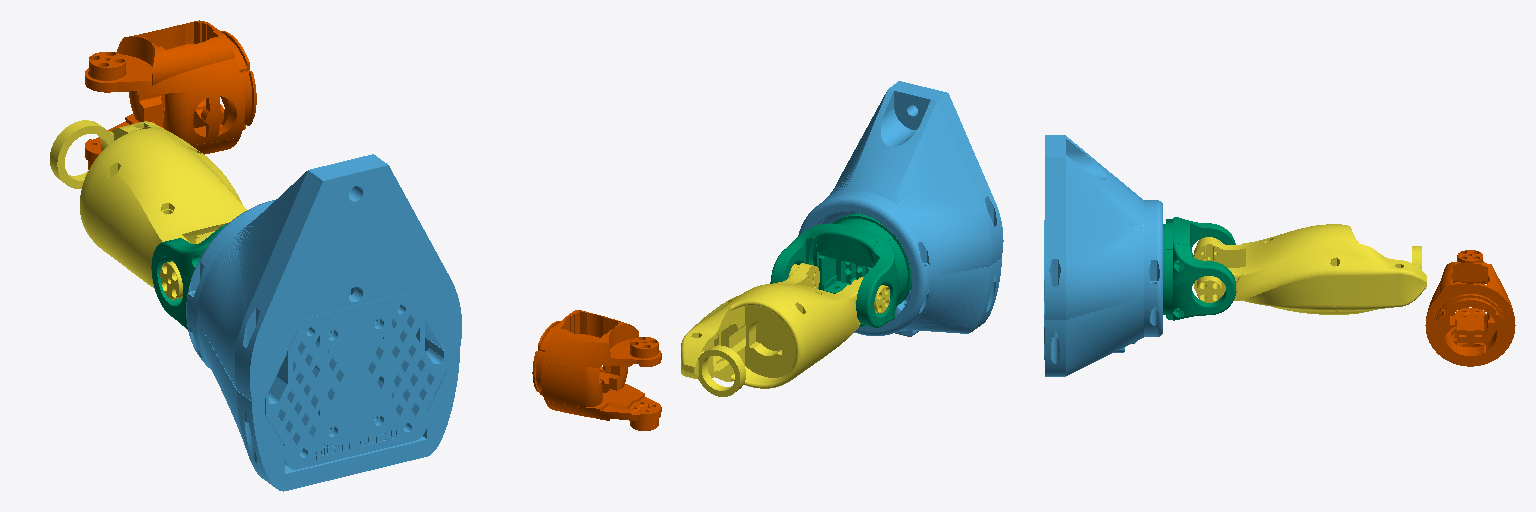
The robot description file, URDF, robot "hopejr_arm":
<?xml version="1.0" ?>
<!-- =================================================================================== -->
<!-- |    This document was autogenerated by xacro from ./hopejr_arm.urdf.xacro        | -->
<!-- |    EDITING THIS FILE BY HAND IS NOT RECOMMENDED                                 | -->
<!-- =================================================================================== -->
<robot name="hopejr_arm">
  <link name="base_footprint"/>
  <link name="base_link">
    <visual>
      <origin rpy="0.0 0 0" xyz="0 0 0"/>
      <geometry>
        <mesh filename="package://hopejr_arm_description/meshes/visual/base_link.dae" scale="1 1 1"/>
      </geometry>
    </visual>
    <collision>
      <origin rpy="0 0 0" xyz="0 0 0"/>
      <geometry>
        <mesh filename="package://hopejr_arm_description/meshes/collision/base_link.stl" scale="1 1 1"/>
      </geometry>
    </collision>
    <inertial>
      <origin rpy="0 0 0" xyz="-0.02 0 0.028"/>
      <mass value="1.260139"/>
      <inertia ixx="0.003444" ixy="0.000000060725" ixz="0.000000223974" iyy="0.003173" iyz="0.0003306" izz="0.002316"/>
    </inertial>
  </link>
  <joint name="base_link_fixed" type="fixed">
    <parent link="base_footprint"/>
    <child link="base_link"/>
    <origin rpy="0 0 0" xyz="0 0 0"/>
  </joint>
  <link name="shoulder_yaw">
    <visual>
      <origin rpy="0 0 0" xyz="0 0 0"/>
      <geometry>
        <mesh filename="package://hopejr_arm_description/meshes/visual/shoulder_yaw.dae" scale="1 1 1"/>
      </geometry>
    </visual>
    <collision>
      <origin rpy="0 0 0" xyz="0 0 0"/>
      <geometry>
        <mesh filename="package://hopejr_arm_description/meshes/collision/shoulder_yaw.stl" scale="1 1 1"/>
      </geometry>
    </collision>
    <inertial>
      <origin rpy="0 0 0" xyz="0 0 0"/>
      <mass value="0.252213"/>
      <inertia ixx="0.0001227" ixy="0.000000629536" ixz="-0.000000333468" iyy="0.0001678" iyz="-0.000000674054" izz="0.0001553"/>
    </inertial>
  </link>
  <joint name="shoulder_pitch" type="continuous">
    <parent link="base_link"/>
    <child link="shoulder_yaw"/>
    <origin rpy="0 0 0" xyz="0 0.07106 0.04453"/>
    <axis xyz="0 1 0"/>
    <limit effort="10" velocity="1.0"/>
  </joint>
  <link name="shoulder_roll">
    <visual>
      <origin rpy="0 0 0" xyz="0 0 0"/>
      <geometry>
        <mesh filename="package://hopejr_arm_description/meshes/visual/shoulder_roll.dae" scale="1 1 1"/>
      </geometry>
    </visual>
    <collision>
      <origin rpy="0 0 0" xyz="0 0 0"/>
      <geometry>
        <mesh filename="package://hopejr_arm_description/meshes/collision/shoulder_roll.stl" scale="1 1 1"/>
      </geometry>
    </collision>
    <inertial>
      <origin rpy="0 0 0" xyz="-0.02 0 0.028"/>
      <mass value="0.422614"/>
      <inertia ixx="0.0006959" ixy="0.000006134701" ixz="-0.000083430347" iyy="0.0007655" iyz="0.000025066263" izz="0.0002446"/>
    </inertial>
  </link>
  <joint name="shoulder_yaw" type="revolute">
    <parent link="shoulder_yaw"/>
    <parent link="shoulder_yaw"/>
    <child link="shoulder_roll"/>
    <origin rpy="-1.5707963267948966 0 0" xyz="0 0.05585 0"/>
    <axis xyz="1 0 0"/>
    <limit effort="10" lower="-1.71" upper="1.681" velocity="1.0"/>
  </joint>
  <link name="upper_elbow">
    <visual>
      <origin rpy="0 0 0" xyz="0 0 0"/>
      <geometry>
        <mesh filename="package://hopejr_arm_description/meshes/visual/upper_elbow.dae" scale="1 1 1"/>
      </geometry>
    </visual>
    <collision>
      <origin rpy="0 0 0" xyz="0 0 0"/>
      <geometry>
        <mesh filename="package://hopejr_arm_description/meshes/collision/upper_elbow.stl" scale="1 1 1"/>
      </geometry>
    </collision>
    <inertial>
      <origin rpy="0 0 0" xyz="-0.02 0 0.028"/>
      <mass value="0.243803"/>
      <inertia ixx="0.0003227" ixy="-0.000000062111" ixz="-0.0001214" iyy="0.0003959" iyz="-0.000000048168" izz="0.0001746"/>
    </inertial>
  </link>
  <joint name="shoulder_roll" type="revolute">
    <parent link="shoulder_roll"/>
    <parent link="shoulder_roll"/>
    <child link="upper_elbow"/>
    <origin rpy="0 0 0" xyz="0 0 0.0884"/>
    <axis xyz="0 0 1"/>
    <limit effort="10" lower="-1.172" upper="1.172" velocity="1.0"/>
  </joint>
  <link name="lower_elbow">
    <visual>
      <origin rpy="0 1.5707963267948966 0" xyz="0 0 0"/>
      <geometry>
        <mesh filename="package://hopejr_arm_description/meshes/visual/lower_elbow.dae" scale="1 1 1"/>
      </geometry>
    </visual>
    <collision>
      <origin rpy="0 1.5707963267948966 0" xyz="0 0 0"/>
      <geometry>
        <mesh filename="package://hopejr_arm_description/meshes/collision/lower_elbow.stl" scale="1 1 1"/>
      </geometry>
    </collision>
    <inertial>
      <origin rpy="0 0 0" xyz="-0.02 0 0.028"/>
      <mass value="0.1882"/>
      <inertia ixx="0.0001196" ixy="0.000002288885" ixz="0.000001137302" iyy="0.000096307138" iyz="0.000003223544" izz="0.0001047"/>
    </inertial>
  </link>
  <joint name="elbow_flex" type="revolute">
    <parent link="upper_elbow"/>
    <child link="lower_elbow"/>
    <origin rpy="0 0 0" xyz="0.03765 0 0.11311"/>
    <axis xyz="0 -1 0"/>
    <limit effort="10" lower="-0.96" upper="1.41" velocity="1.0"/>
  </joint>
  <link name="forearm">
    <visual>
      <origin rpy="0 1.5707963267948966 0" xyz="0 0 0"/>
      <geometry>
        <mesh filename="package://hopejr_arm_description/meshes/visual/forearm.dae" scale="1 1 1"/>
      </geometry>
    </visual>
    <collision>
      <origin rpy="0 1.5707963267948966 0" xyz="0 0 0"/>
      <geometry>
        <mesh filename="package://hopejr_arm_description/meshes/collision/forearm.stl" scale="1 1 1"/>
      </geometry>
    </collision>
    <inertial>
      <origin rpy="0 0 0" xyz="-0.02 0 0.028"/>
      <mass value="0.208355"/>
      <inertia ixx="0.0002051" ixy="0.000000044894" ixz="-0.000004226706" iyy="0.0002222" iyz="-0.000002431512" izz="0.0001122"/>
    </inertial>
  </link>
  <joint name="wrist_roll" type="revolute">
    <parent link="lower_elbow"/>
    <child link="forearm"/>
    <origin rpy="0 0 0" xyz="0.06325 0 0"/>
    <axis xyz="-1 0 0"/>
    <limit effort="10" lower="-0.7853981633974483" upper="3.665191429188092" velocity="1.0"/>
  </joint>
</robot>

--- What the picture shows (computed from the rendered views, not written in the file) ---
The picture shows the robot from 3 angles, left to right: view 1: azimuth 30°, elevation 25°; view 2: azimuth 150°, elevation 25°; view 3: azimuth 270°, elevation 25°; orthographic projection.
Robot: hopejr_arm — 7 links, 6 joints (4 revolute, 1 continuous, 1 fixed); root link base_footprint; default pose: every joint at zero.
Links seen in each view (by area): view 1: base_link, shoulder_roll, lower_elbow, shoulder_yaw; view 2: base_link, shoulder_roll, lower_elbow, shoulder_yaw; view 3: base_link, shoulder_roll, lower_elbow, shoulder_yaw.
Link boxes in pixels (left/top/right/bottom): base_link: left=186, top=154, right=461, bottom=491; shoulder_roll: left=50, top=120, right=246, bottom=299; lower_elbow: left=85, top=20, right=256, bottom=169; shoulder_yaw: left=151, top=222, right=229, bottom=329; base_link: left=798, top=81, right=1003, bottom=336; shoulder_roll: left=681, top=263, right=889, bottom=396; lower_elbow: left=532, top=310, right=661, bottom=430; shoulder_yaw: left=770, top=213, right=911, bottom=327; base_link: left=1044, top=135, right=1162, bottom=376; shoulder_roll: left=1194, top=224, right=1426, bottom=314; lower_elbow: left=1425, top=250, right=1515, bottom=366; shoulder_yaw: left=1163, top=217, right=1235, bottom=320.
Size in the robot's own frame: 0.1781 by 0.363 by 0.1754 metres.
4 mesh visuals loaded from 6 distinct referenced files (4 Collada DAE); not drawn: 2 (reference not matched to a file when rendering).
